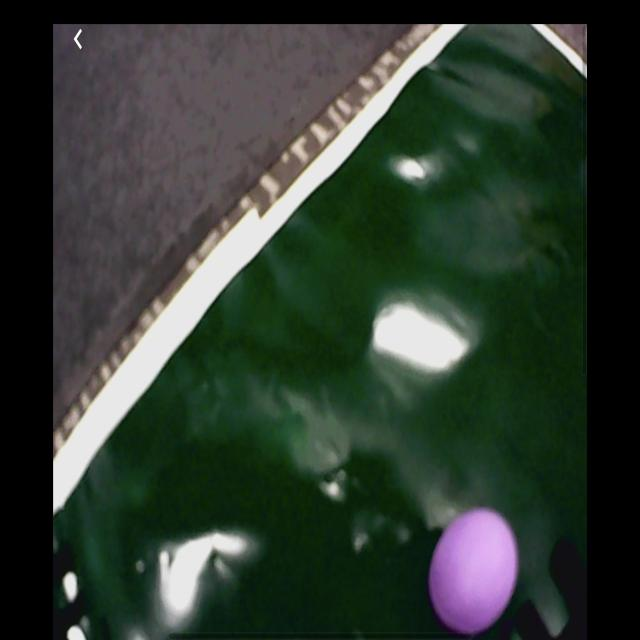ball: (429, 508, 521, 640)
